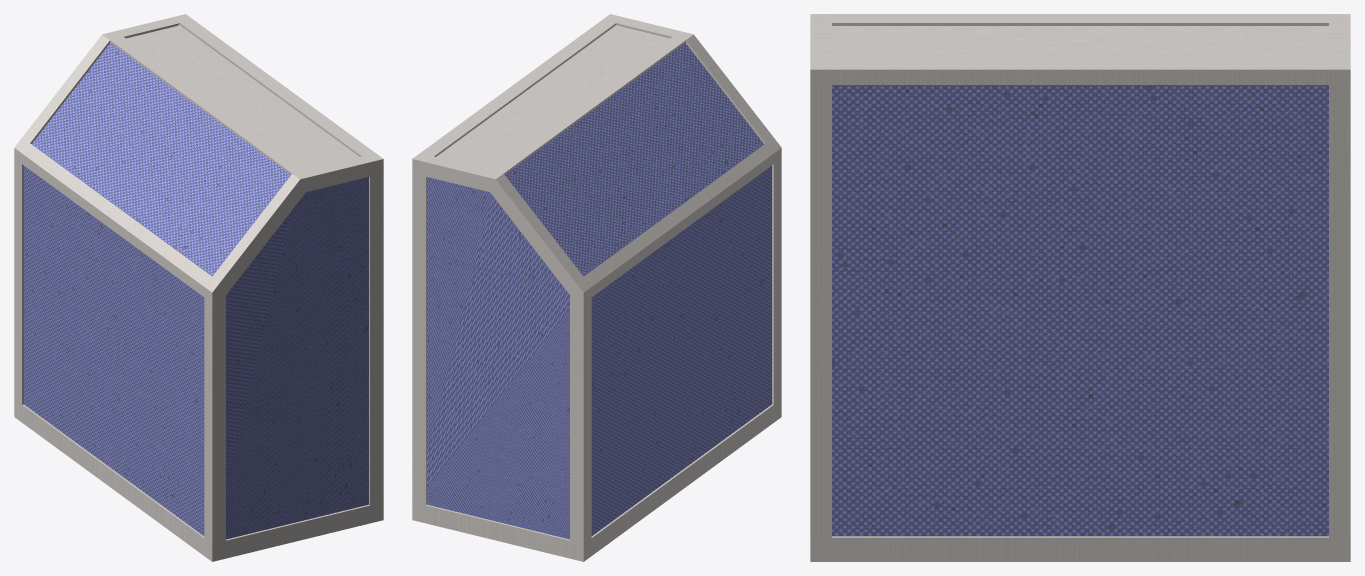
The model's file is Caja_Stand4.obj.
3 views of the same model, side by side, from view 1: azimuth 30°, elevation 25°; view 2: azimuth 150°, elevation 25°; view 3: azimuth 270°, elevation 25° (orthographic). The views are drawn at different scales.
Parts seen in each view (by area): view 1: Caja_Stand4; view 2: Caja_Stand4; view 3: Caja_Stand4.
Boxes of the visible parts, bbox=[...] form: Caja_Stand4: bbox=[14, 14, 383, 561]; Caja_Stand4: bbox=[412, 14, 781, 561]; Caja_Stand4: bbox=[810, 14, 1350, 561].
Size of the model in its own units: 0.604 by 1.22 by 1.21.
Materials: 2 (2 with a texture image).
